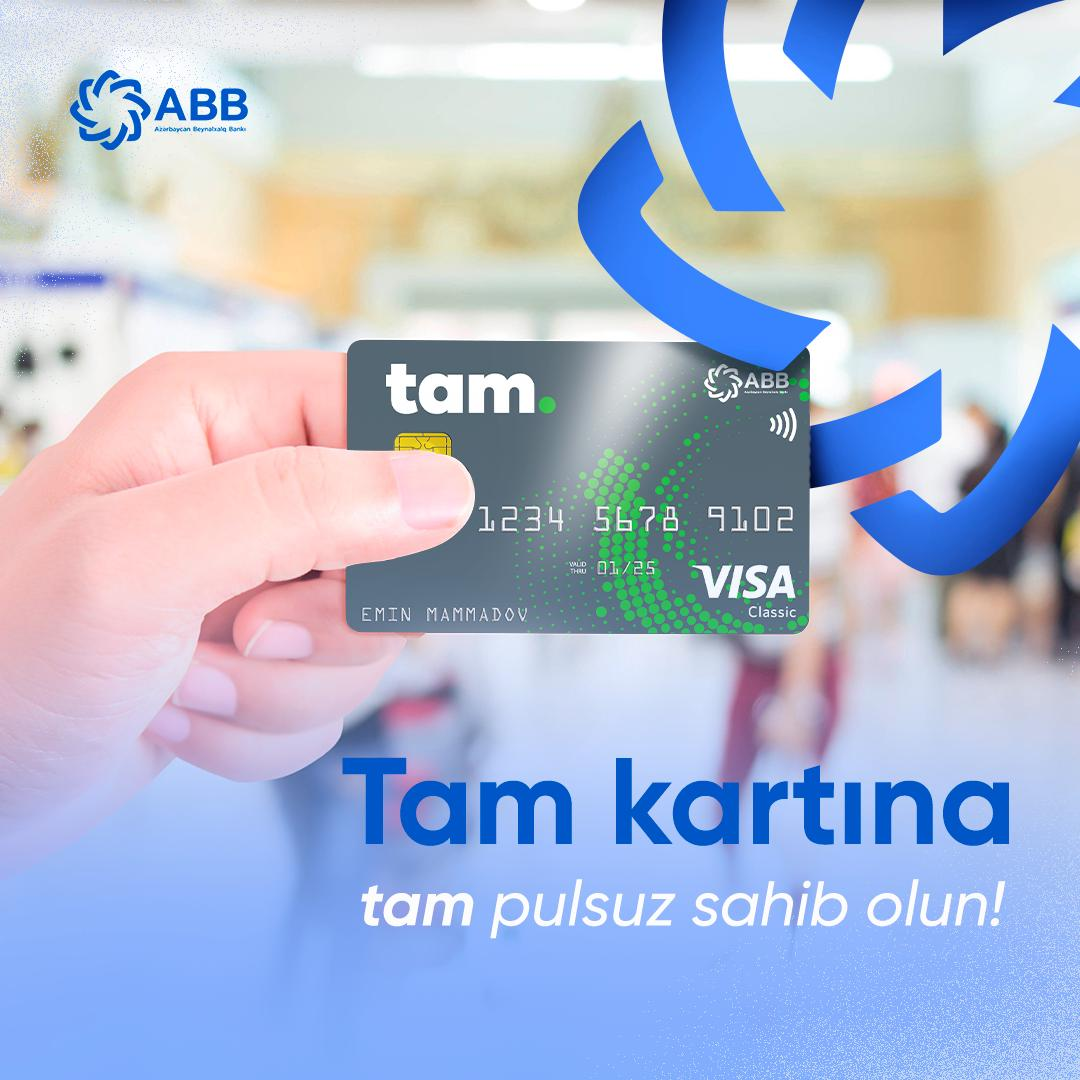ABB: (66, 66, 153, 154), (700, 362, 744, 406)
